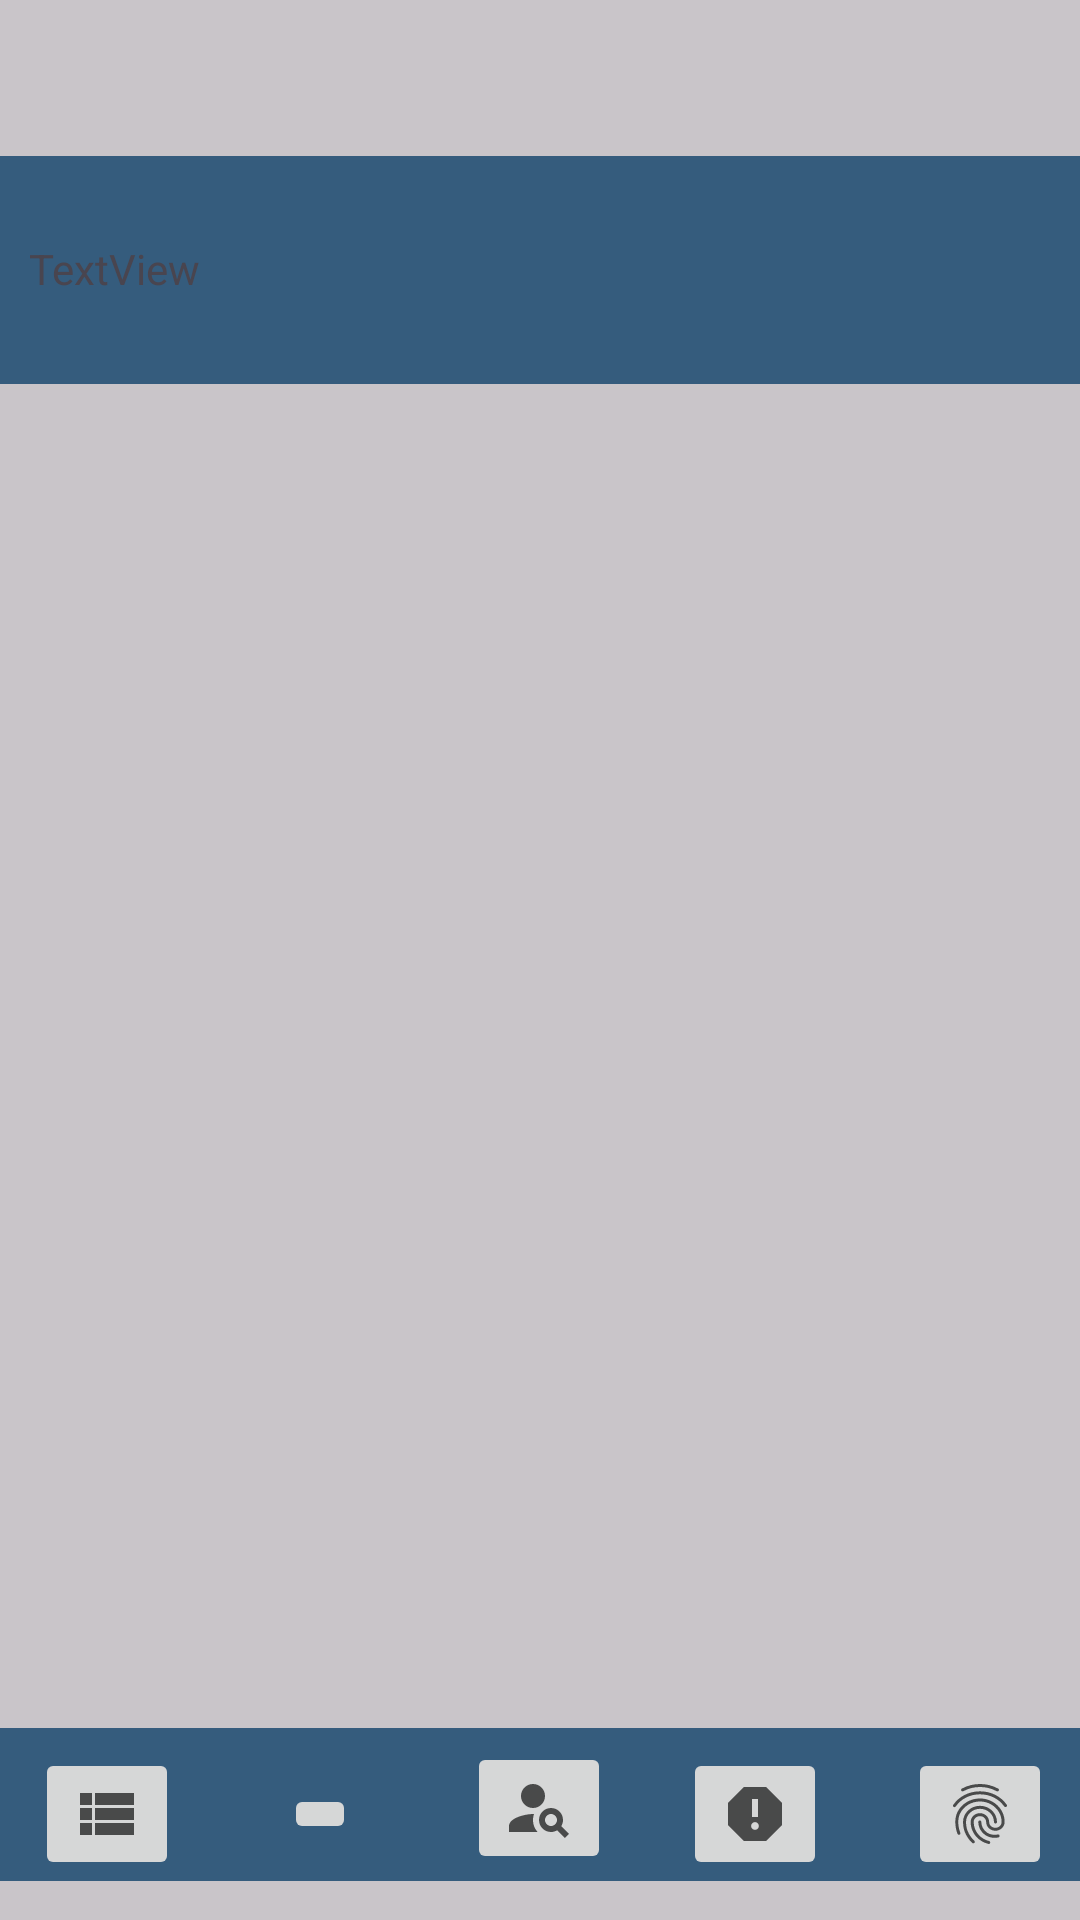

Screen size 1080x1920. Icon name, then its box in pixels as box(x1, y1, x2, y2):
fingerprint: box(920, 1766, 1040, 1862)
person search: box(479, 1760, 599, 1856)
report: box(695, 1766, 815, 1862)
view list: box(47, 1766, 167, 1862)
